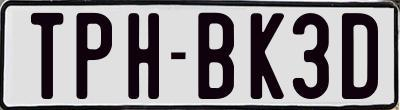3: (292, 11, 328, 98)
B: (195, 10, 234, 96)
D: (341, 11, 383, 97)
H: (127, 12, 164, 101)
K: (251, 12, 286, 98)
P: (73, 12, 113, 103)
T: (29, 10, 67, 102)
